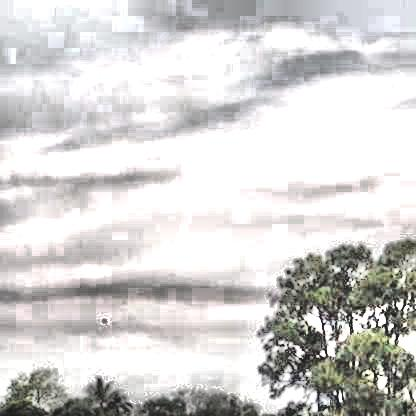golfball: (98, 314, 105, 321)
